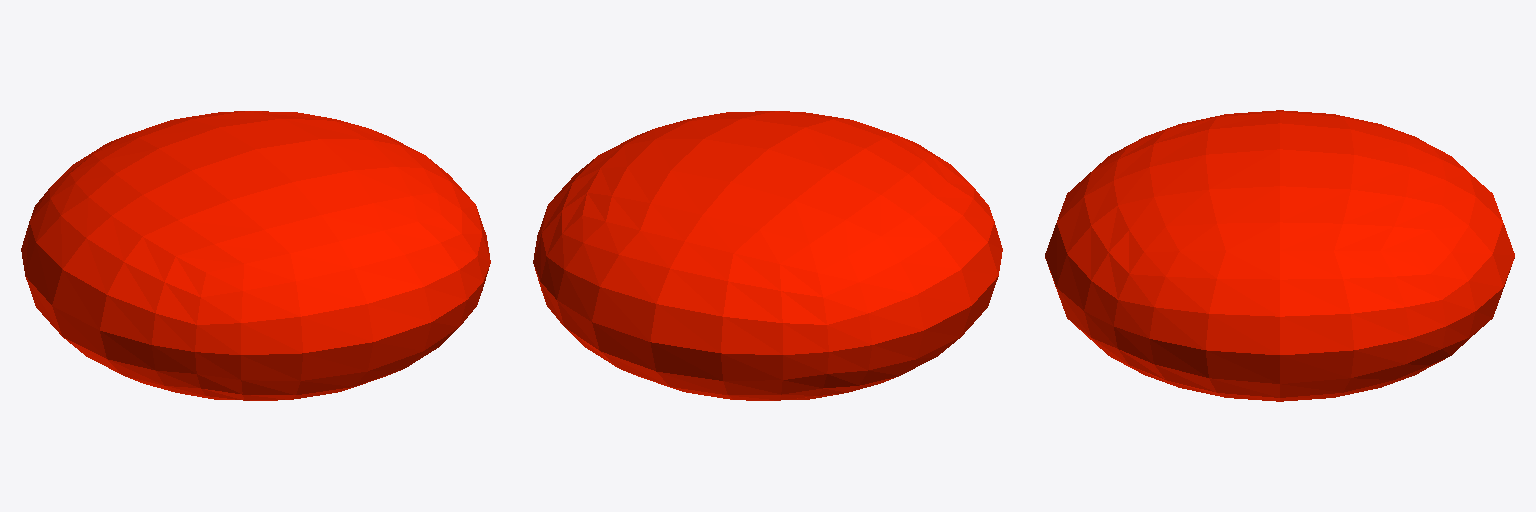
The model's file is lava.obj.
3 views of the same model, side by side, from view 1: azimuth 30°, elevation 25°; view 2: azimuth 150°, elevation 25°; view 3: azimuth 270°, elevation 25° (orthographic).
Visible parts, largest first — view 1: Lava1; view 2: Lava1; view 3: Lava1.
Part boxes in pixels (x1,y1,x2,y2): Lava1: (21, 111, 490, 400); Lava1: (533, 111, 1002, 400); Lava1: (1045, 110, 1514, 401).
Bounding box in the file's own units: 2 × 1 × 2.